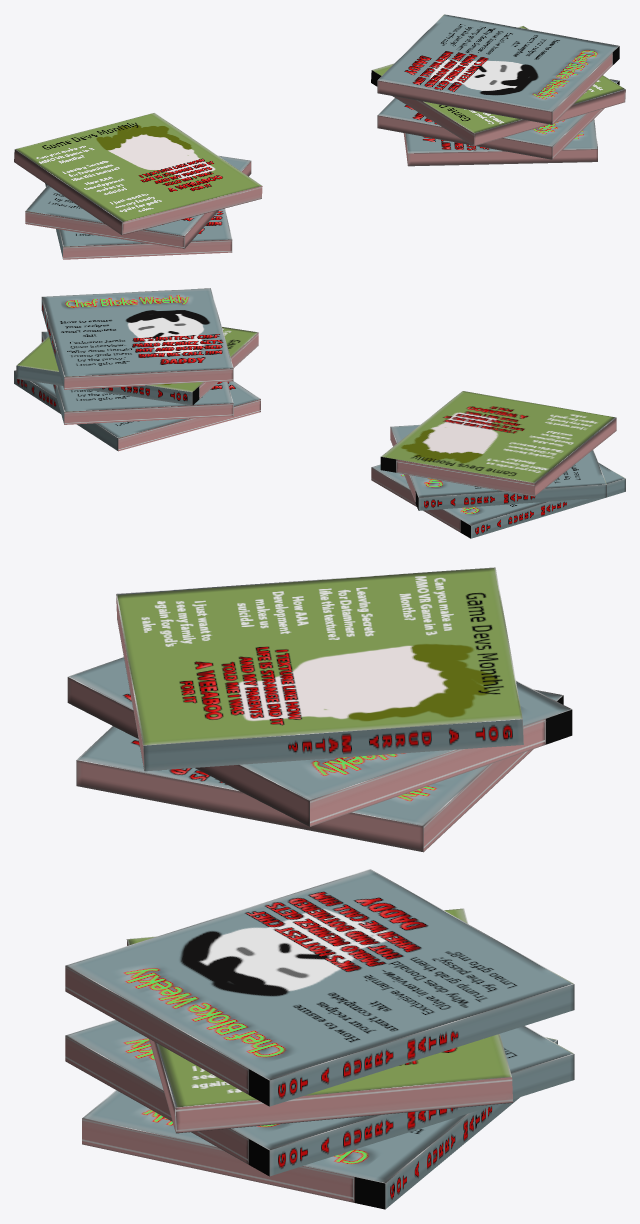
File: Magazines.fbx
3 views of the same model, one above another, from view 1: azimuth 30°, elevation 25°; view 2: azimuth 150°, elevation 25°; view 3: azimuth 270°, elevation 25° (orthographic). The views are drawn at different scales.
Parts seen in each view (by area): view 1: polySurface85; view 2: polySurface85; view 3: polySurface85.
Boxes of the visible parts, x1,y1,x2,y2 form: polySurface85: [14, 14, 625, 259]; polySurface85: [14, 288, 625, 538]; polySurface85: [65, 567, 574, 1209].
Size of the model in its own units: 89.46 by 9.63 by 34.05.
